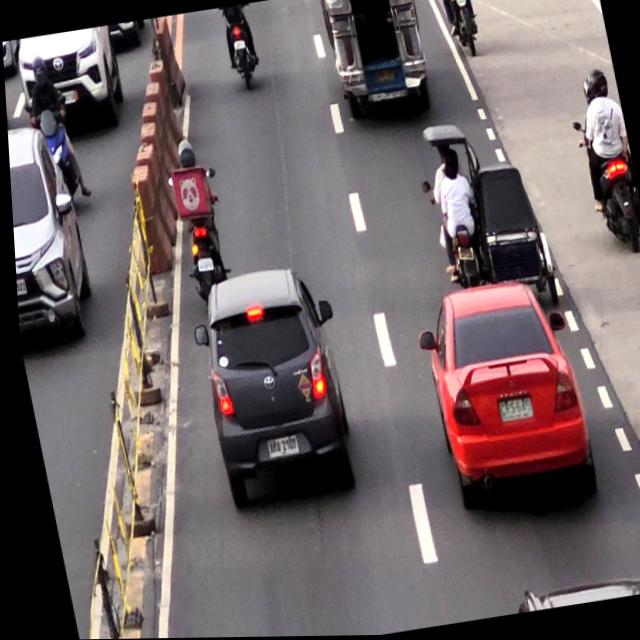Car: (411, 279, 596, 517), (186, 266, 345, 492)
Jeep: (320, 0, 433, 126)
License-Plate: (493, 396, 531, 427), (261, 432, 294, 460), (191, 255, 213, 275)
Motorcycle: (569, 66, 640, 258), (167, 141, 227, 290), (218, 5, 261, 94), (438, 0, 484, 56)
Tricycle: (417, 113, 560, 304)
